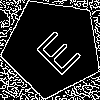E: (27, 22, 83, 79)
